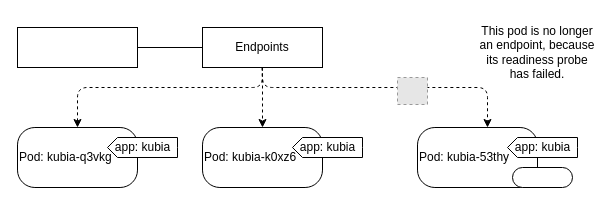
Image size: 615x205. Some labels were removed from this diagram. Grey dashed boxes stand in for pictures. Here are the shapes that lost their labels. From the top down, the centre of each, then its label:
At point 77,47: "Service Selector: app=kubia".
At point 542,177: "Not ready".
